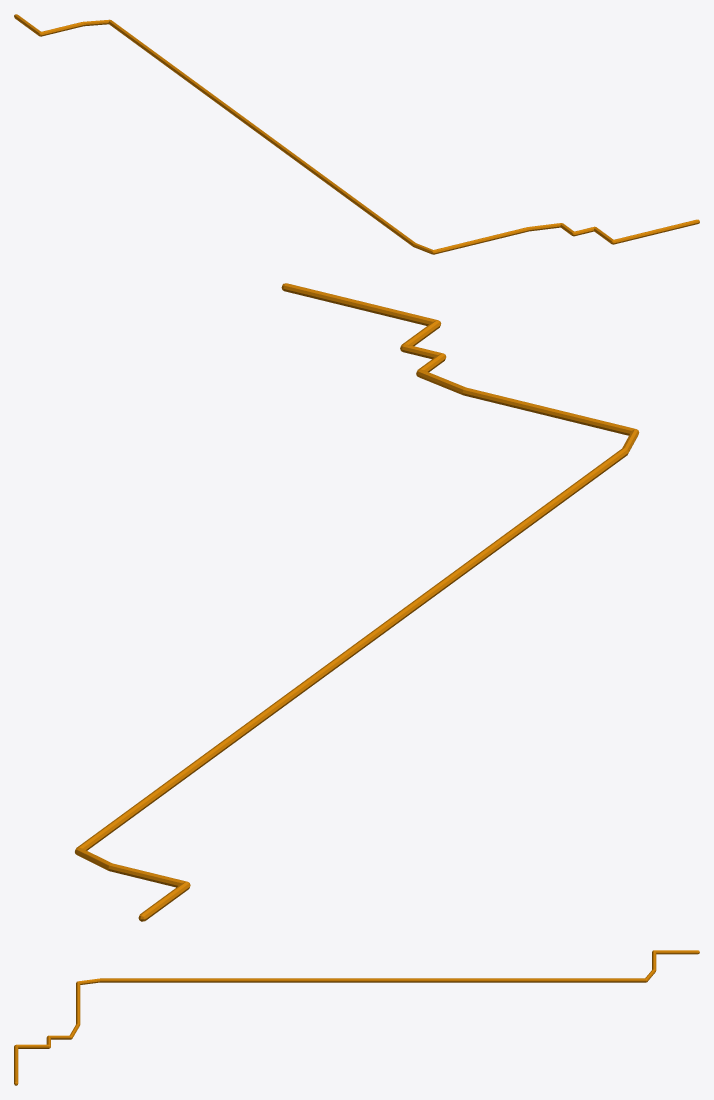
3 views of the same model, one above another, from view 1: azimuth 30°, elevation 25°; view 2: azimuth 150°, elevation 25°; view 3: azimuth 270°, elevation 25° (orthographic). The views are drawn at different scales.
Bounding box in the file's own units: 1444 × 20 × 3142.
